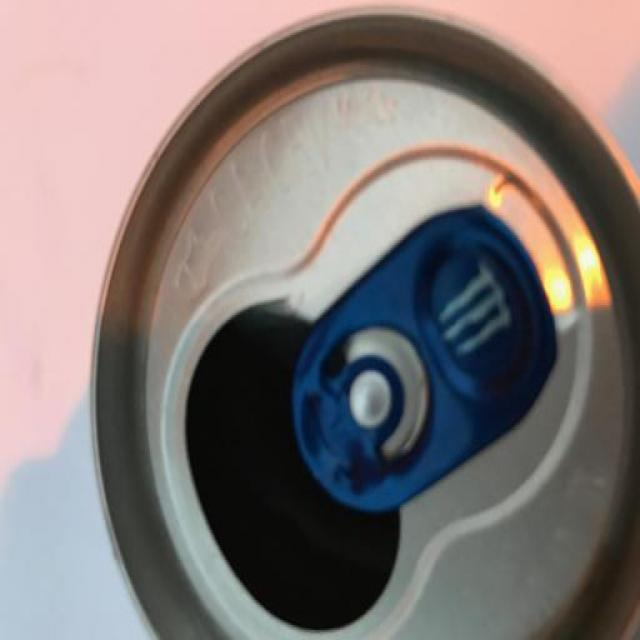metel: (86, 11, 640, 640)
